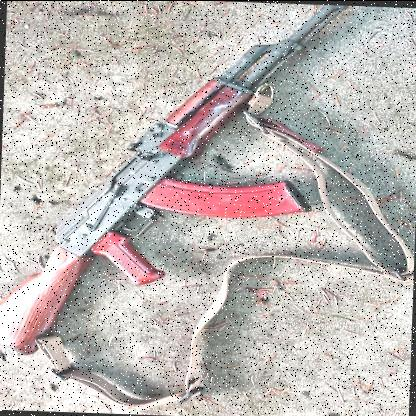rifle: (0, 0, 373, 390)
